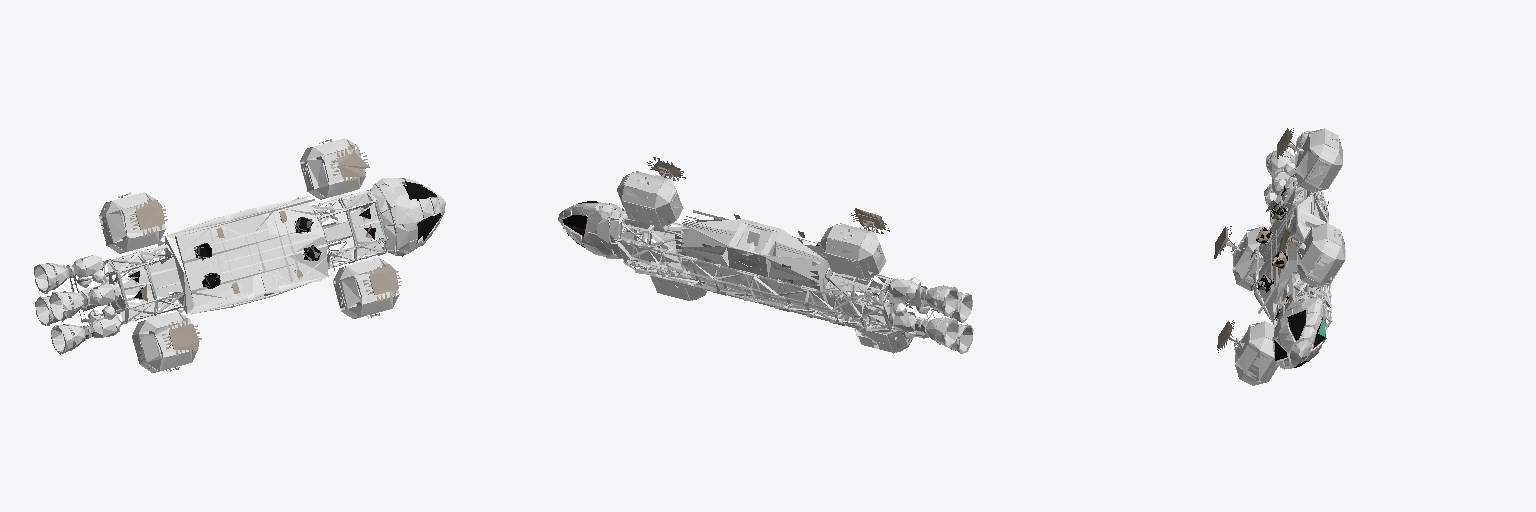
Rendered from eagle1.obj.
The picture shows the model from 3 angles: view 1: azimuth 30°, elevation 25°; view 2: azimuth 150°, elevation 25°; view 3: azimuth 270°, elevation 25°; orthographic projection.
Visible parts, largest first — view 1: e_or_Mesh.059, e_redpod_Mesh.021, e_eng1_Mesh, e_frameint_Mesh.019, e_frame_Mesh.058, e_cmpanels_Mesh.060, e_pod1_Mesh.040, e_orfoot1_Mesh.008, e_orfoot4_Mesh.012, e_orfoot3_Mesh.004, e_orfoot2_Mesh.016, mesh01_Mesh.061 (+2 smaller); view 2: e_or_Mesh.059, e_frame_Mesh.058, e_pod1_Mesh.040, e_eng1_Mesh, e_redpod_Mesh.021, e_frameint_Mesh.019, e_cmpanels_Mesh.060; view 3: e_or_Mesh.059, e_redpod_Mesh.021, e_cmpanels_Mesh.060, e_frame_Mesh.058, e_pod1_Mesh.040, e_eng1_Mesh, mesh01_Mesh.061, e_frameint_Mesh.019.
Part boxes in pixels (x1,y1,x2,y2): e_or_Mesh.059: (99,138,399,372); e_redpod_Mesh.021: (160,196,334,315); e_eng1_Mesh: (34,255,120,354); e_frameint_Mesh.019: (107,193,383,320); e_frame_Mesh.058: (101,190,388,324); e_cmpanels_Mesh.060: (367,178,445,256); e_pod1_Mesh.040: (158,197,325,314); e_orfoot1_Mesh.008: (162,318,201,355); e_orfoot4_Mesh.012: (363,264,401,301); e_orfoot3_Mesh.004: (130,199,167,236); e_orfoot2_Mesh.016: (330,145,369,181); mesh01_Mesh.061: (403,181,441,240); e_or_Mesh.059: (617,171,913,353); e_frame_Mesh.058: (614,211,906,331); e_pod1_Mesh.040: (682,219,842,313); e_eng1_Mesh: (887,278,973,353); e_redpod_Mesh.021: (675,210,850,317); e_frameint_Mesh.019: (619,219,903,324); e_cmpanels_Mesh.060: (558,202,636,258); e_or_Mesh.059: (1231,128,1345,385); e_redpod_Mesh.021: (1253,188,1328,324); e_cmpanels_Mesh.060: (1272,297,1326,369); e_frame_Mesh.058: (1271,175,1332,343); e_pod1_Mesh.040: (1253,194,1328,321); e_eng1_Mesh: (1264,131,1316,222); mesh01_Mesh.061: (1274,310,1324,367); e_frameint_Mesh.019: (1266,186,1319,323).
Size of the model in its own units: 5.46 by 2.07 by 1.56.